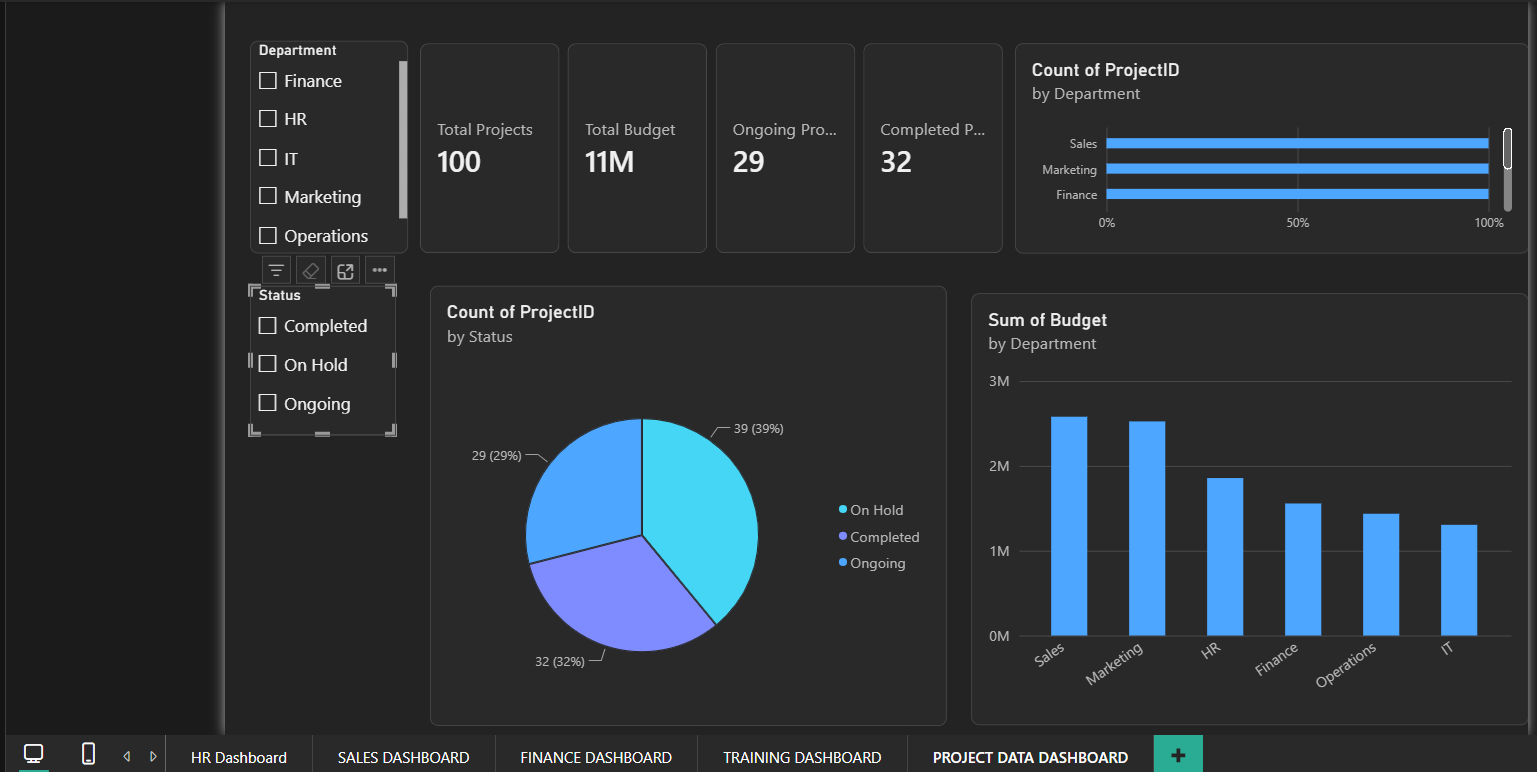

Layout of this report page (visuals, bound fields, positions):
{"tool":"powerbi","page":{"name":"PROJECT DATA DASHBOARD","canvas":[1280,720],"ordinal":4},"visuals":[{"type":"cardVisual","fields":{"Data":["Project_Data.Total Projects","Project_Data.Total Budget","Project_Data.Ongoing Projects","Project_Data.Completed Projects"]},"box":[191.6,41.1,573.5,206.5],"z":0},{"type":"pieChart","fields":{"Category":["Project_Data.Status"],"Y":["CountNonNull(Project_Data.ProjectID)"]},"box":[201.5,278.6,507.5,431.7],"z":1000},{"type":"columnChart","fields":{"Category":["Project_Data.Department"],"Y":["Sum(Project_Data.Budget)"]},"box":[732.7,286.1,547.3,424.2],"z":2000},{"type":"hundredPercentStackedBarChart","fields":{"Category":["Project_Data.Department"],"Y":["CountNonNull(Project_Data.ProjectID)"]},"box":[775,41.1,505,206.5],"z":3000},{"type":"slicer","fields":{"Values":["Project_Data.Department"]},"box":[24.9,38.6,155.5,209],"z":4000},{"type":"slicer","fields":{"Values":["Project_Data.Status"]},"box":[24.9,278.6,143.1,146.8],"z":5000}]}

Visuals, with their boxes on the page's 1280x720 design canvas (x1, y1, x2, y2). These are canvas units, not pixel positions in the 1537x772 screenshot, which may show the page scaled, cropped or inside an application window:
cardVisual - Project_Data.Total Projects x Project_Data.Total Budget: {"left": 192, "top": 41, "right": 765, "bottom": 248}
pieChart - Project_Data.Status x CountNonNull(Project_Data.ProjectID): {"left": 202, "top": 279, "right": 709, "bottom": 710}
columnChart - Project_Data.Department x Sum(Project_Data.Budget): {"left": 733, "top": 286, "right": 1280, "bottom": 710}
hundredPercentStackedBarChart - Project_Data.Department x CountNonNull(Project_Data.ProjectID): {"left": 775, "top": 41, "right": 1280, "bottom": 248}
slicer - Project_Data.Department: {"left": 25, "top": 39, "right": 180, "bottom": 248}
slicer - Project_Data.Status: {"left": 25, "top": 279, "right": 168, "bottom": 425}
